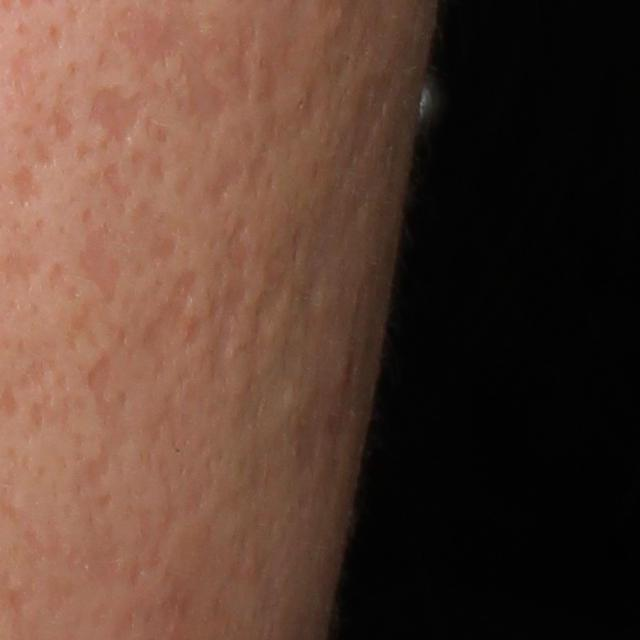atrophic_scar: (134, 11, 233, 133), (141, 268, 200, 382), (83, 83, 159, 149), (254, 250, 298, 344), (13, 356, 58, 429), (80, 226, 120, 305), (61, 298, 103, 359), (236, 14, 258, 104), (86, 349, 115, 408), (210, 162, 248, 203), (227, 219, 250, 274), (103, 160, 133, 201), (12, 168, 46, 204), (49, 102, 77, 144), (146, 231, 177, 266)
